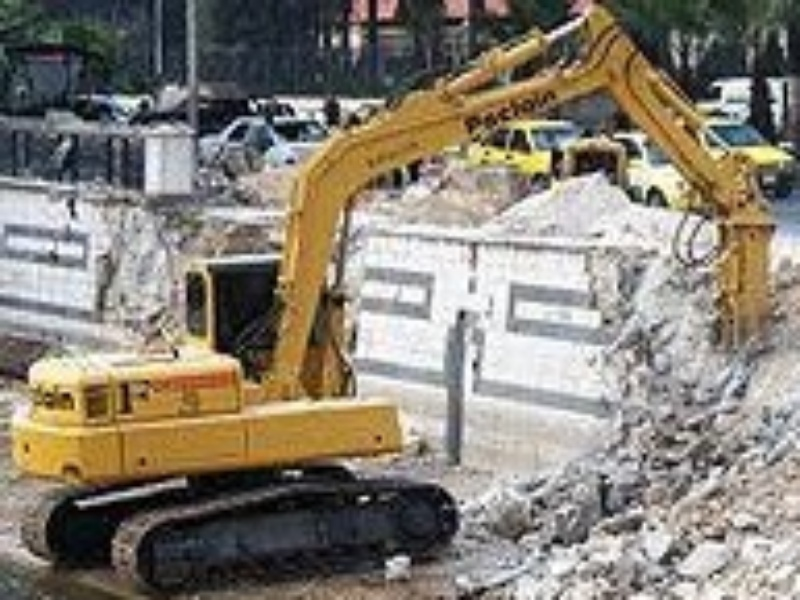wajueji: (14, 214, 521, 588)
